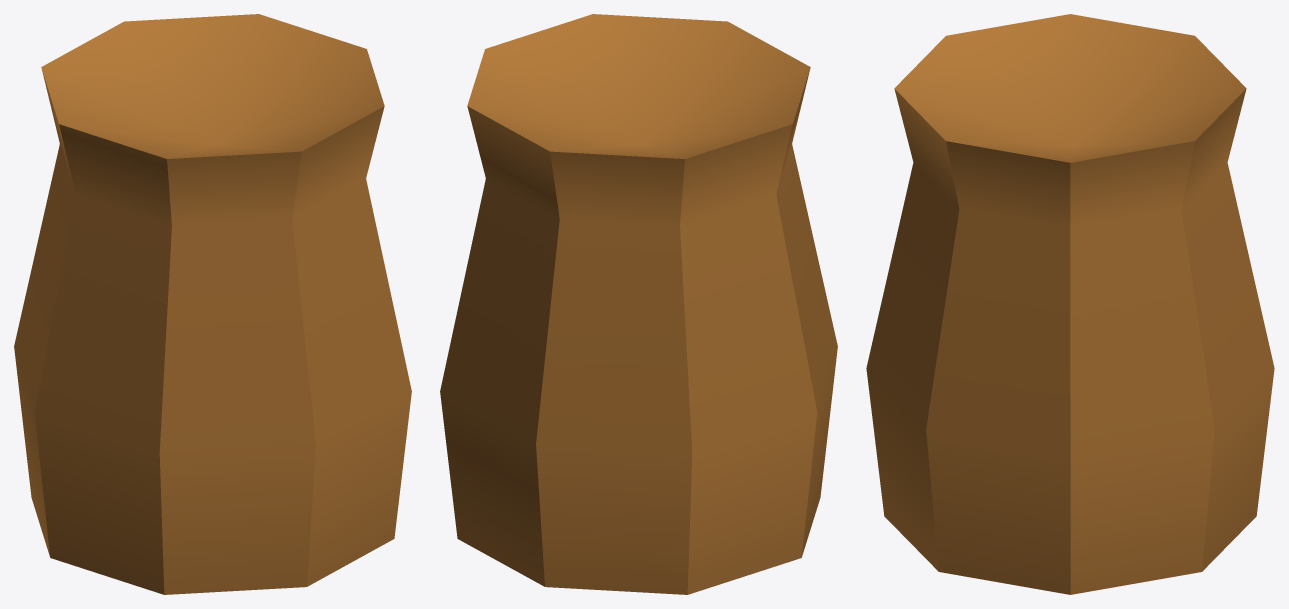
File: sm_Vase.fbx
3 views of the same model, side by side, from view 1: azimuth 30°, elevation 25°; view 2: azimuth 150°, elevation 25°; view 3: azimuth 270°, elevation 25° (orthographic).
Visible parts, largest first — view 1: sm_Vase; view 2: sm_Vase; view 3: sm_Vase.
Part boxes in pixels (box(x1,y1,x2,y2)): sm_Vase: box(14, 14, 411, 594); sm_Vase: box(440, 14, 837, 594); sm_Vase: box(866, 14, 1274, 594).
Bounding box in the file's own units: 47.25 × 54.65 × 47.25.
